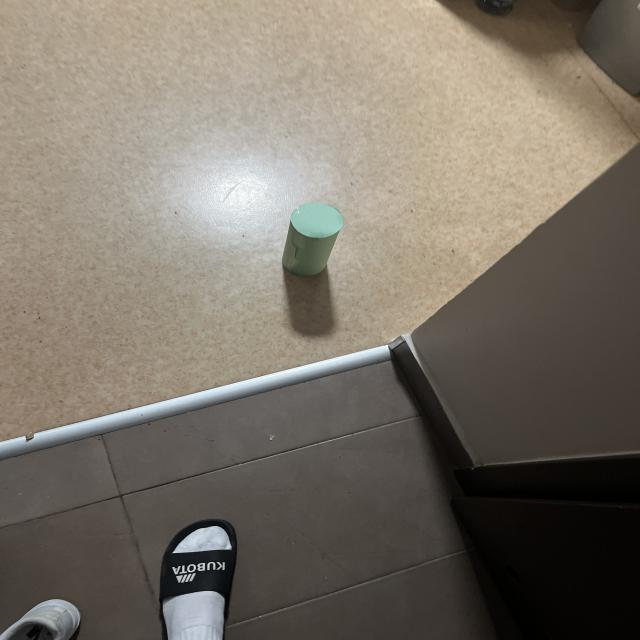meta: (282, 203, 343, 276)
